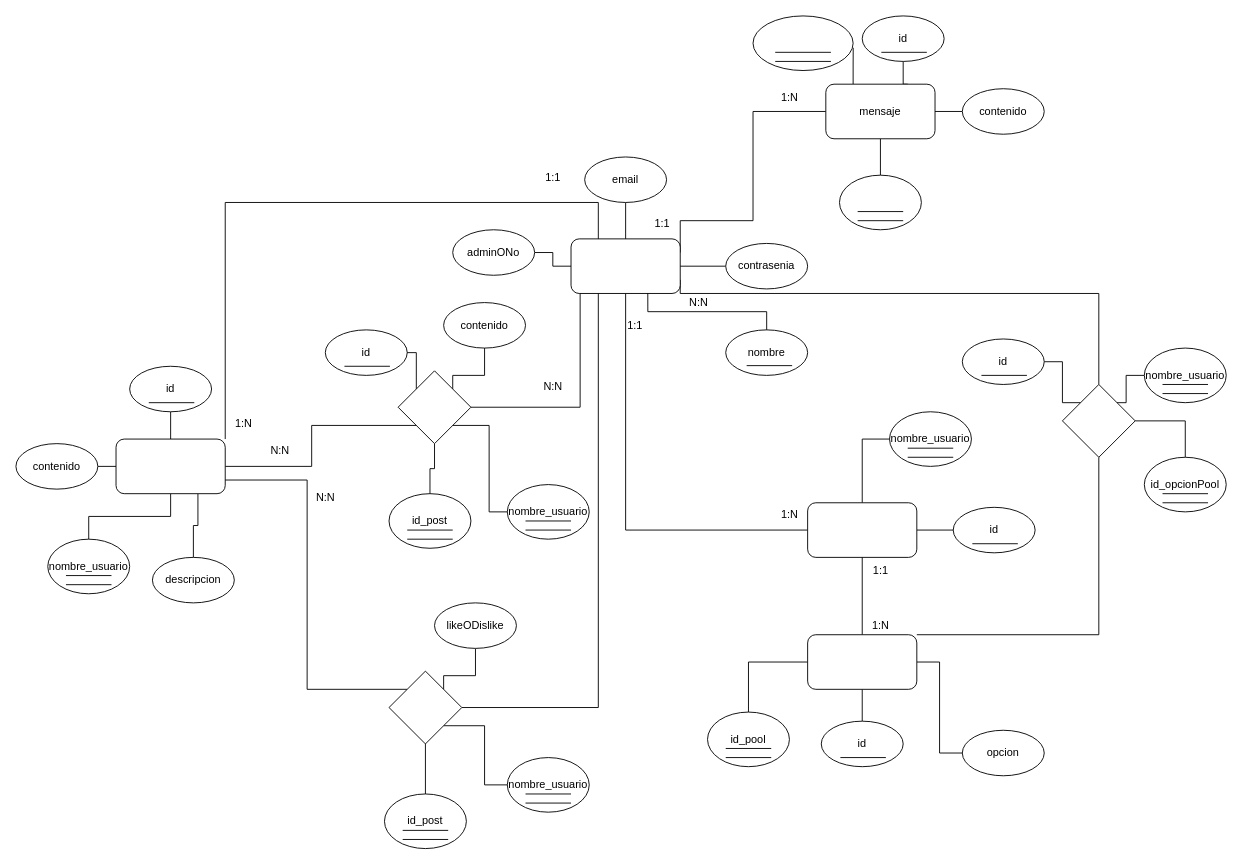
Image size: 1242x865. Some labels were removed from this diagram. Here are the shapes that lost their labels. From the top down, the centre of each, then its label:
At (x=802, y=43): "nombre_remitente".
At (x=880, y=202): "nombre_emisor".
At (x=625, y=265): "usuario".
At (x=434, y=407): "comentar".
At (x=1098, y=420): "votar".
At (x=170, y=466): "post".
At (x=862, y=529): "pool".
At (x=862, y=661): "opcionPool".
At (x=425, y=707): "valorar".
